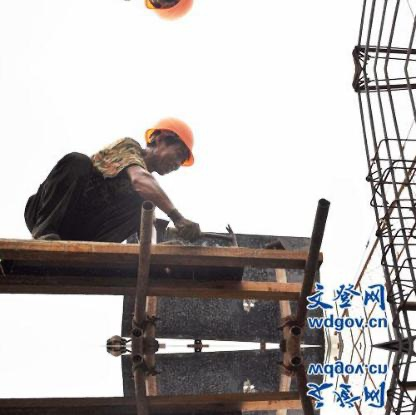Safety Helmet: (139, 112, 202, 187), (139, 1, 202, 19)
